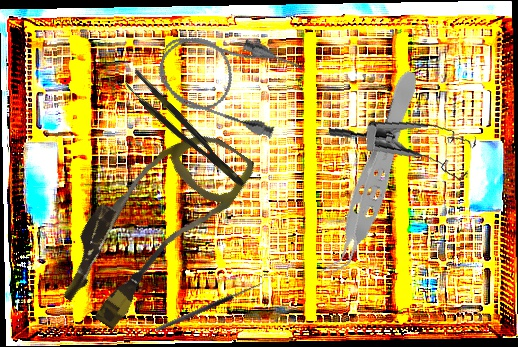Cannula: (45, 103, 259, 347), (148, 15, 307, 142)
Hook Surgical: (152, 274, 266, 333)
Speculum: (328, 106, 482, 199)
Tissue Forceps: (319, 65, 428, 285), (121, 68, 247, 197)
